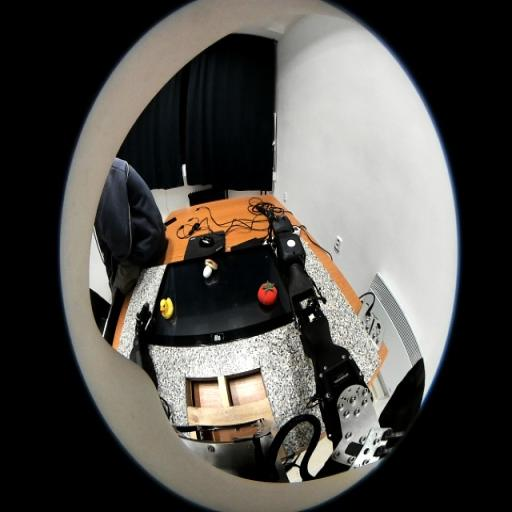Duck: (160, 298, 174, 319)
LeftHand: (135, 324, 147, 338)
Mushroom: (203, 259, 218, 278)
RightHand: (273, 219, 291, 230)
Tomato: (258, 280, 278, 305)
